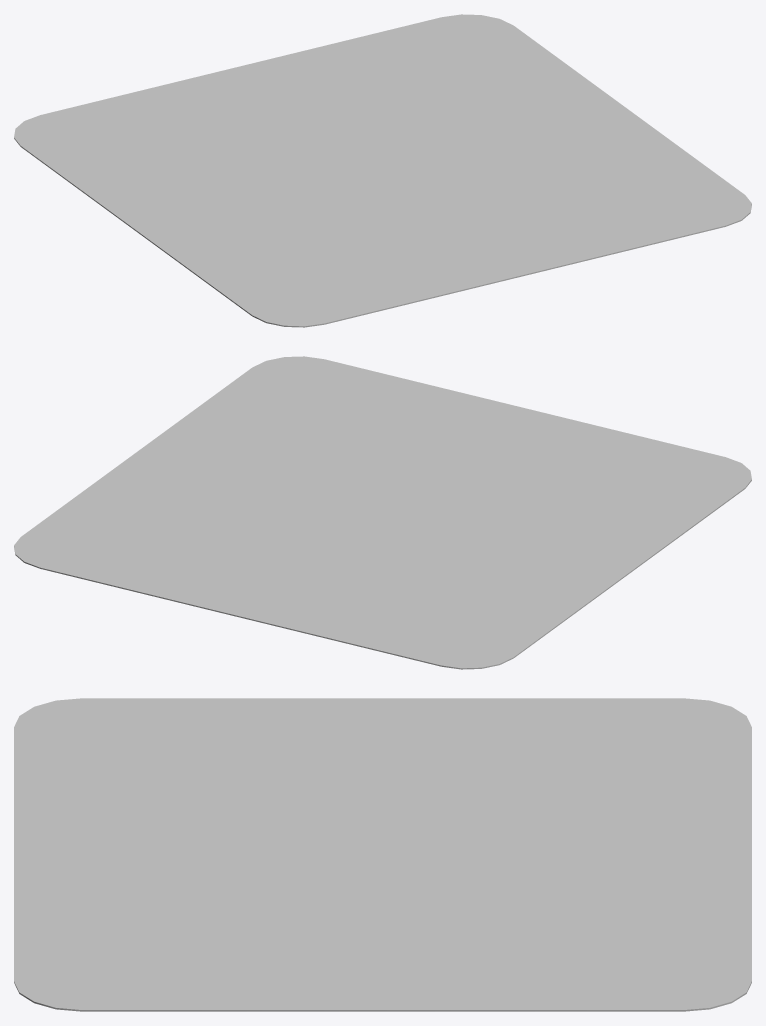
The model's file is Block.FBX.
3 renders of one model, top to bottom at view 1: azimuth 30°, elevation 25°; view 2: azimuth 150°, elevation 25°; view 3: azimuth 270°, elevation 25°, orthographic. The views are drawn at different scales.
Parts seen in each view (by area): view 1: Base_Block; view 2: Base_Block; view 3: Base_Block.
Part boxes in pixels (x1=…): Base_Block: x1=14, y1=14, x2=751, y2=327; Base_Block: x1=14, y1=356, x2=751, y2=669; Base_Block: x1=14, y1=698, x2=751, y2=1011.
Size of the model in its own units: 0.114 by 0.000267 by 0.114.
